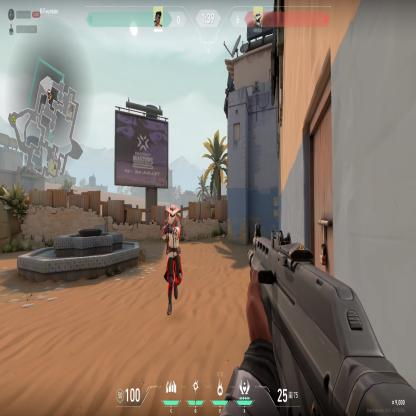enemy: (162, 202, 183, 319)
